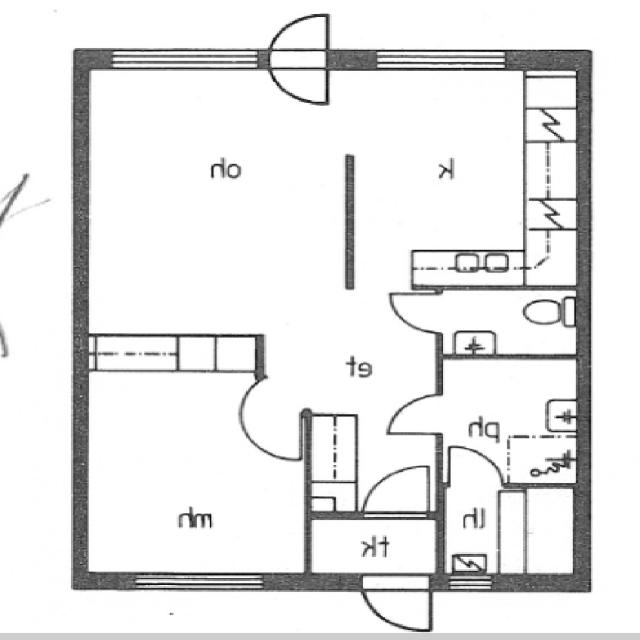door: (262, 9, 332, 106), (357, 576, 432, 635), (360, 462, 436, 517), (380, 389, 448, 441), (379, 287, 444, 336)
window: (109, 44, 262, 72), (377, 46, 510, 73), (129, 570, 267, 595), (449, 571, 495, 595), (1, 321, 12, 362)
zone: (82, 62, 349, 334), (74, 334, 314, 582), (346, 64, 583, 286), (438, 355, 586, 486), (441, 478, 586, 588), (442, 288, 584, 359), (305, 517, 440, 579), (408, 249, 523, 289), (81, 333, 179, 371)
